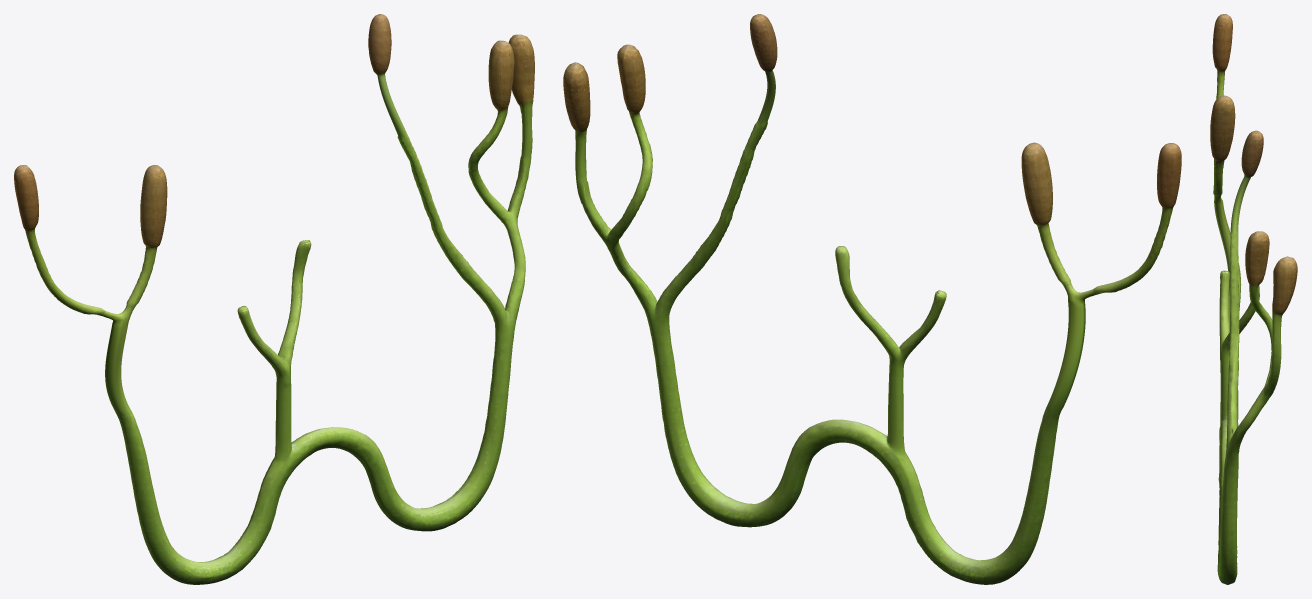
3 views of the same model, side by side, from view 1: azimuth 30°, elevation 25°; view 2: azimuth 150°, elevation 25°; view 3: azimuth 270°, elevation 25° (orthographic). The views are drawn at different scales.
Visible parts, largest first — view 1: Retained lower framework; view 2: Retained lower framework; view 3: Retained lower framework.
Part boxes in pixels (<box>): Retained lower framework: <box>14,14,534,584</box>; Retained lower framework: <box>563,14,1181,584</box>; Retained lower framework: <box>1210,14,1297,584</box>.
Size of the model in its own units: 0.8439 by 0.7453 by 0.1367.
2 materials, 1 textured.
